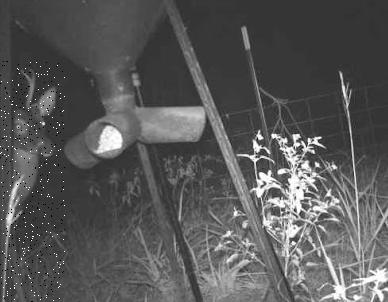Deer: (0, 61, 65, 302)
